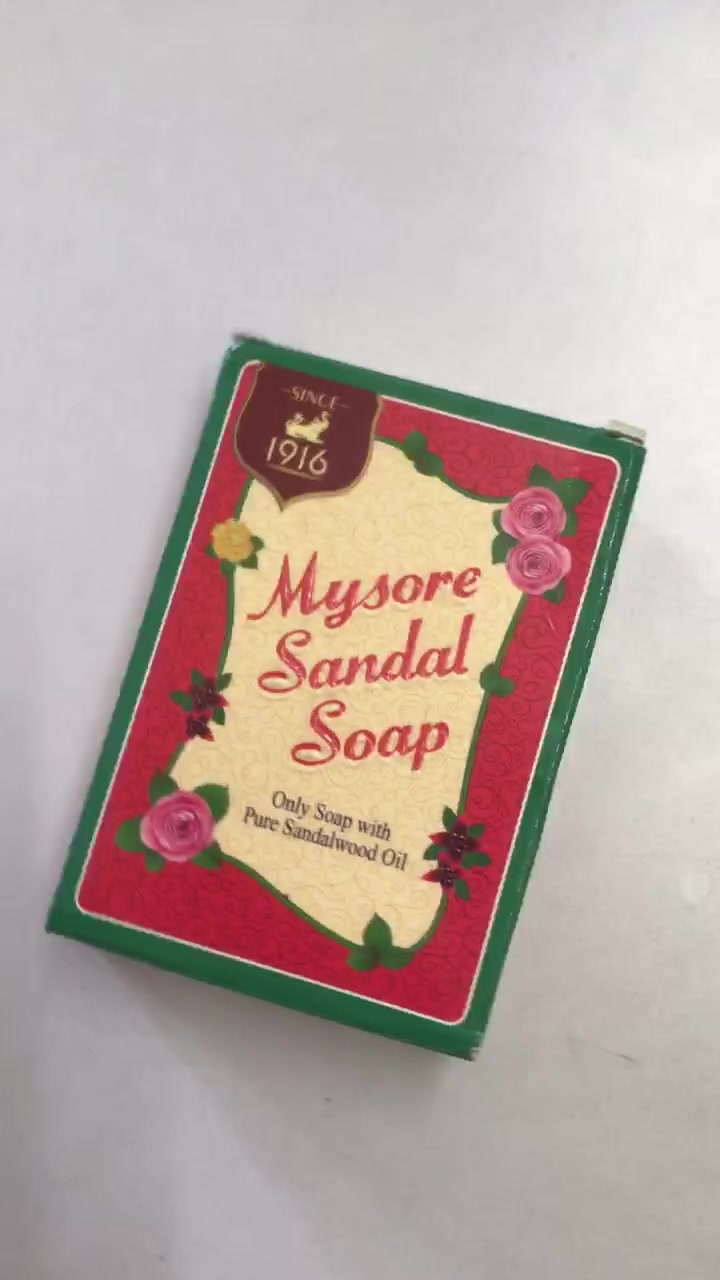mysore sandal soap: (41, 337, 649, 1067)
